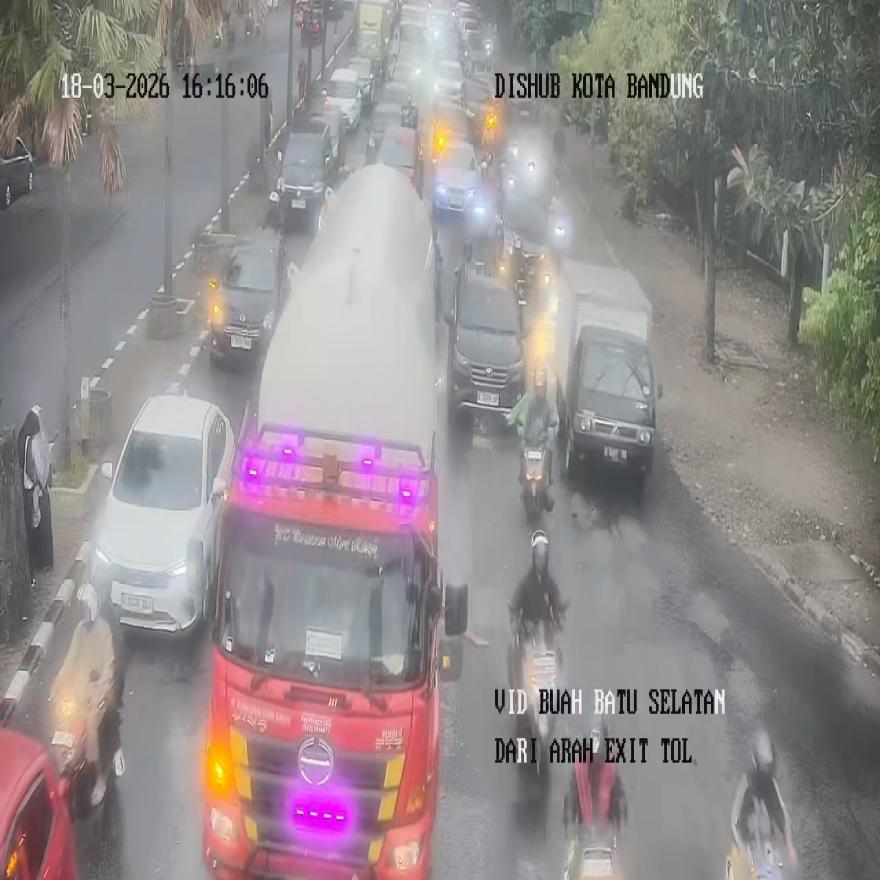Mobil: (91, 375, 236, 636), (557, 259, 661, 490), (443, 250, 526, 428), (208, 225, 290, 368)
Motor: (51, 682, 122, 849), (725, 730, 796, 878), (562, 716, 626, 878), (509, 608, 563, 778), (520, 442, 550, 524)
Truk berat: (201, 167, 467, 876)
